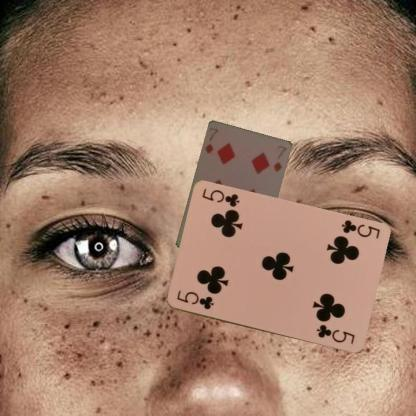5c: (174, 288, 215, 311), (338, 218, 380, 240)
7d: (202, 125, 220, 155)
